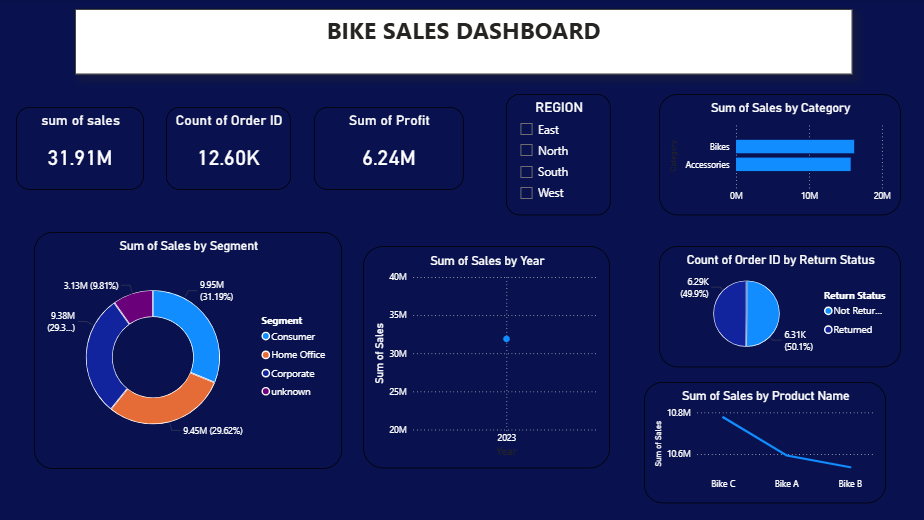

The dashboard page shown, as its layout file describes it:
{"tool":"powerbi","page":{"name":"Page 1","canvas":[1280,720],"ordinal":0},"visuals":[{"type":"card","title":"sum of sales","fields":{"Values":["Sum(Sheet1.Sales)"]},"box":[24,148,176,114],"z":0},{"type":"card","title":"Count of Order ID","fields":{"Values":["CountNonNull(Sheet1.Order ID)"]},"box":[230,148,172,114],"z":1000},{"type":"textbox","box":[104,14,1070,90],"z":2000},{"type":"card","title":"Sum of Profit","fields":{"Values":["Sum(Sheet1.Profit)"]},"box":[434,148,206,114],"z":3000},{"type":"slicer","title":"REGION","fields":{"Values":["Sheet1.Region"]},"box":[697.1,131.4,144.3,167.1],"z":4000},{"type":"lineChart","fields":{"Category":["Sheet1.Product Name"],"Y":["Sum(Sheet1.Sales)"]},"box":[887.1,527.1,332.9,167.1],"z":5000},{"type":"pieChart","fields":{"Category":["Sheet1.Return Status"],"Y":["CountNonNull(Sheet1.Order ID)"]},"box":[908.6,340,332.9,167.1],"z":6000},{"type":"donutChart","fields":{"Category":["Sheet1.Segment"],"Y":["Sum(Sheet1.Sales)"]},"box":[48.6,320,424.3,325.7],"z":7000},{"type":"barChart","fields":{"Category":["Sheet1.Category"],"Y":["Sum(Sheet1.Sales)"]},"box":[908.6,131.4,332.9,167.1],"z":8000},{"type":"lineChart","fields":{"Category":["Sheet1.Order Date.Variation.Date Hierarchy.Year","Sheet1.Order Date.Variation.Date Hierarchy.Quarter","Sheet1.Order Date.Variation.Date Hierarchy.Month","Sheet1.Order Date.Variation.Date Hierarchy.Day"],"Y":["Sum(Sheet1.Sales)"]},"box":[501.4,340,340,305.7],"z":9000}]}

Visuals, with their boxes in screenshot pixels (x1, y1, x2, y2), scaled from the page's 1280x720 canvas onto the 924x520 screenshot:
"sum of sales" card: x1=17, y1=107, x2=144, y2=189
"Count of Order ID" card: x1=166, y1=107, x2=290, y2=189
textbox: x1=75, y1=10, x2=847, y2=75
"Sum of Profit" card: x1=313, y1=107, x2=462, y2=189
"REGION" slicer: x1=503, y1=95, x2=607, y2=216
lineChart - Sheet1.Product Name x Sum(Sheet1.Sales): x1=640, y1=381, x2=881, y2=501
pieChart - Sheet1.Return Status x CountNonNull(Sheet1.Order ID): x1=656, y1=246, x2=896, y2=366
donutChart - Sheet1.Segment x Sum(Sheet1.Sales): x1=35, y1=231, x2=341, y2=466
barChart - Sheet1.Category x Sum(Sheet1.Sales): x1=656, y1=95, x2=896, y2=216
lineChart - Sheet1.Order Date.Variation.Date Hierarchy.Year x Sheet1.Order Date.Variation.Date Hierarchy.Quarter: x1=362, y1=246, x2=607, y2=466
